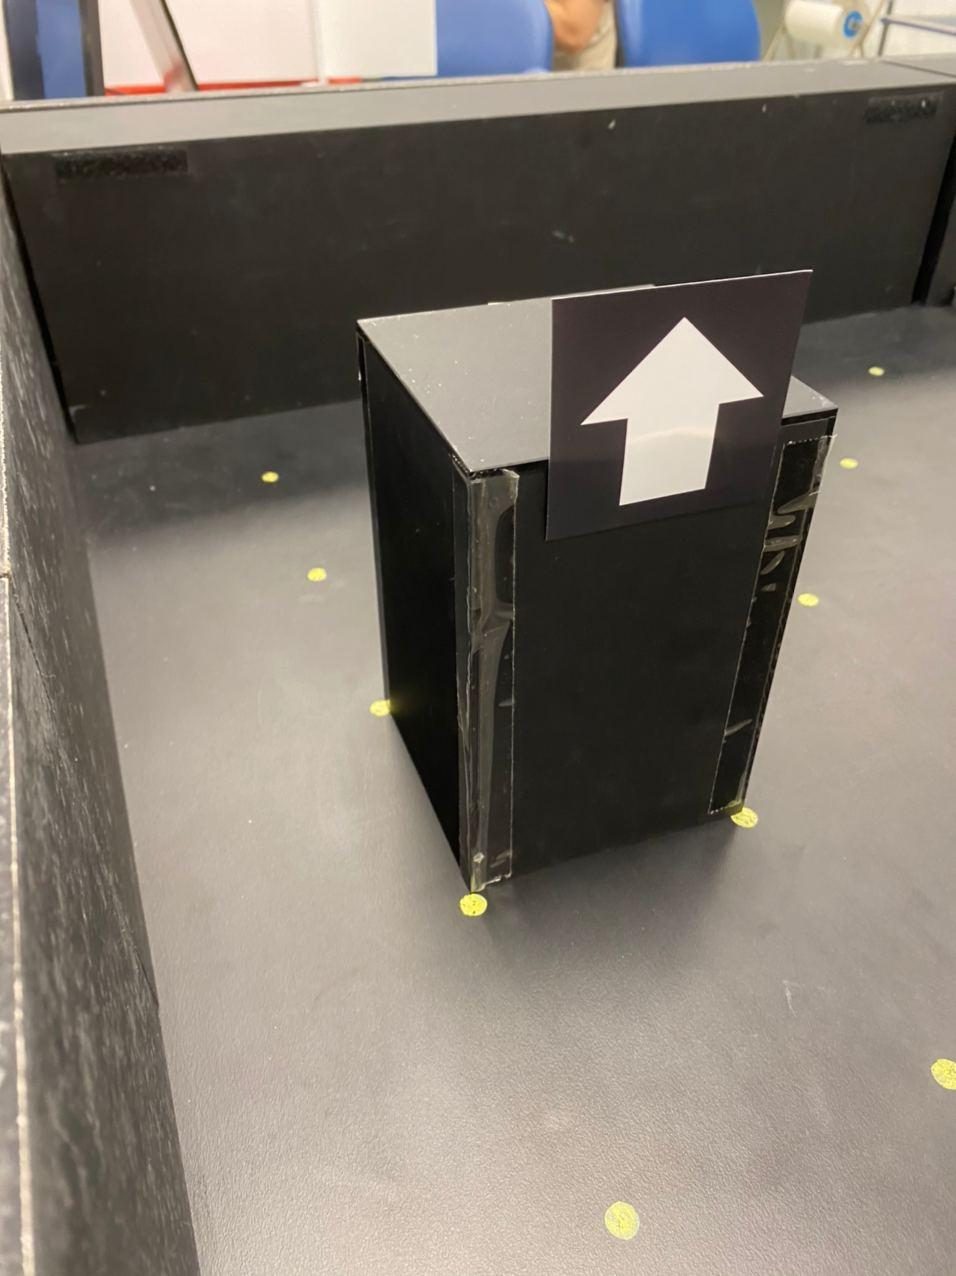up: (582, 306, 768, 514)
